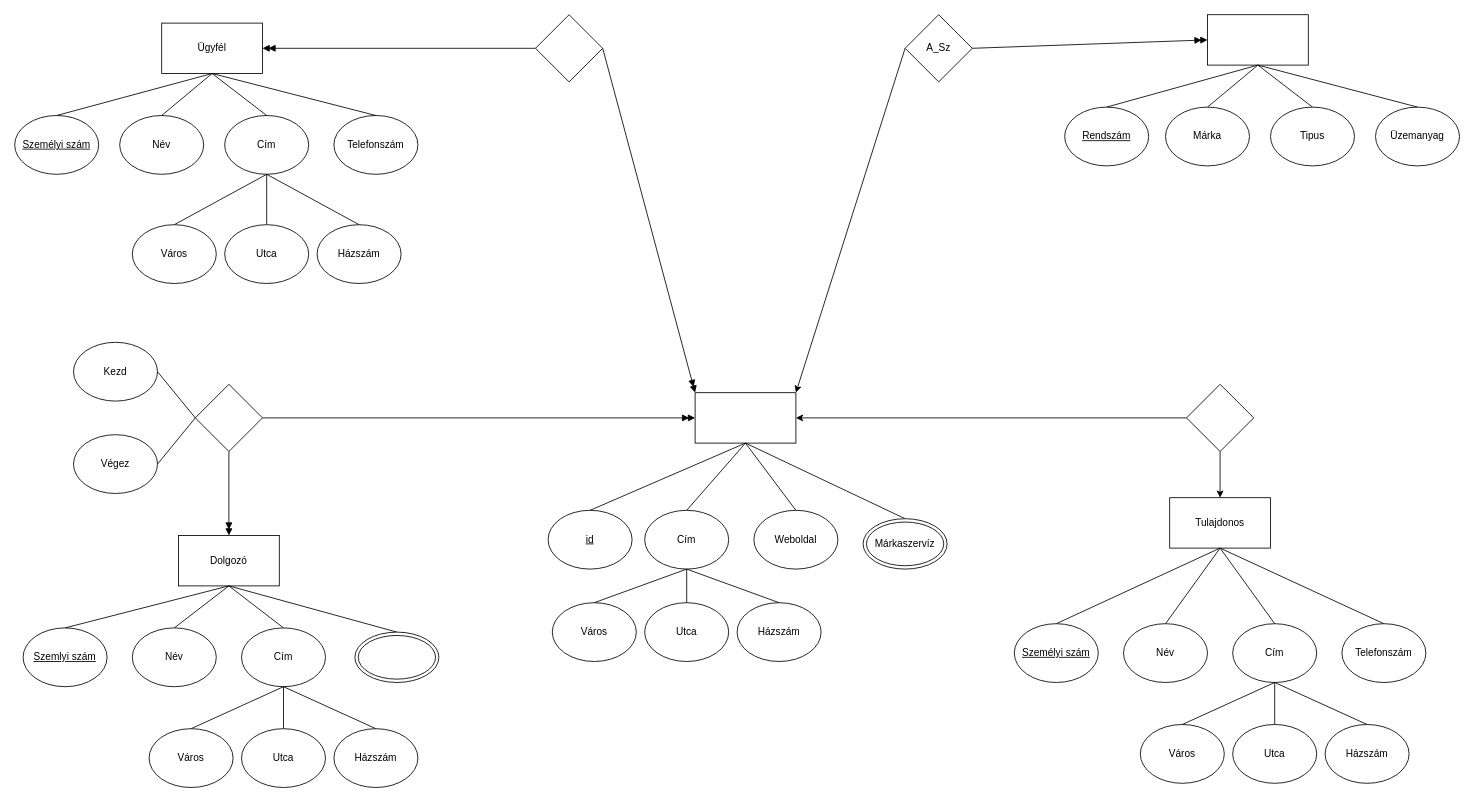
Image size: 1474x802. Some labels were removed from this diagram. The shapes that lost their labels are listed below. From the top down, each one's centre as x and y in pixels, then its label:
At pixel 569 48: "Ü_Sz".
At pixel 1257 39: "Autó".
At pixel 228 417: "Műszak".
At pixel 745 417: "Szalon".
At pixel 1220 417: "T_Sz".
At pixel 396 656: "Végzettség".
